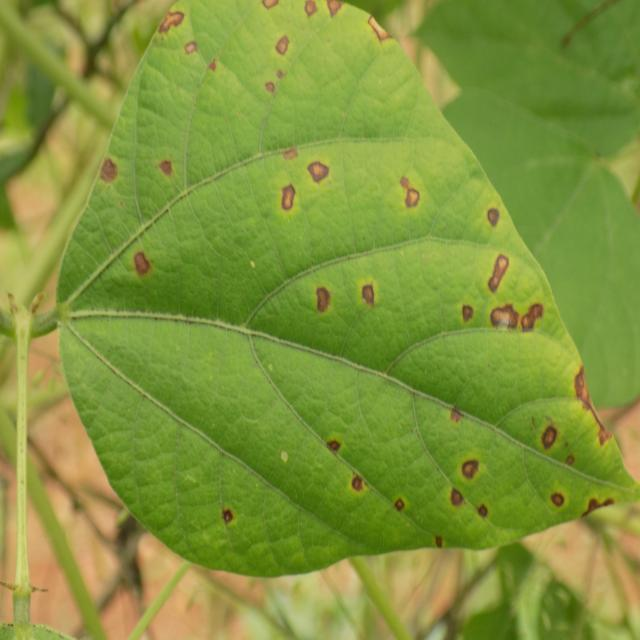Dolicos bean_cercospora leaf spot: (56, 0, 639, 572)
